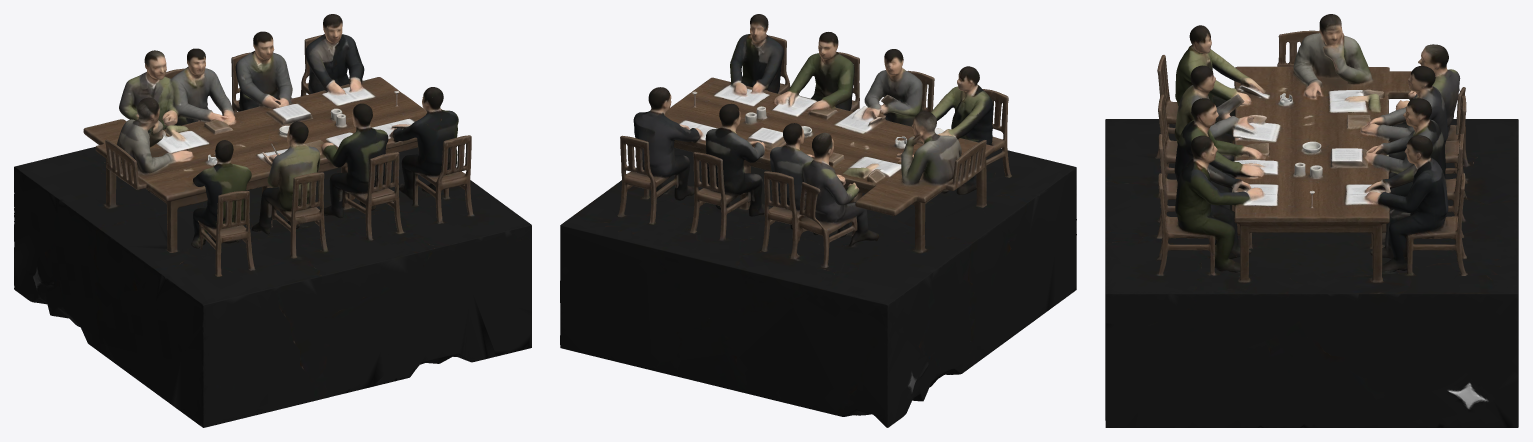
Rendered from dai_hoi_dang_toan_quoc.glb.
3 views of the same model, side by side, from view 1: azimuth 30°, elevation 25°; view 2: azimuth 150°, elevation 25°; view 3: azimuth 270°, elevation 25° (orthographic). The views are drawn at different scales.
Size of the model in its own units: 1.66 by 1.16 by 1.64.
Materials: 1 (1 with a texture image).
